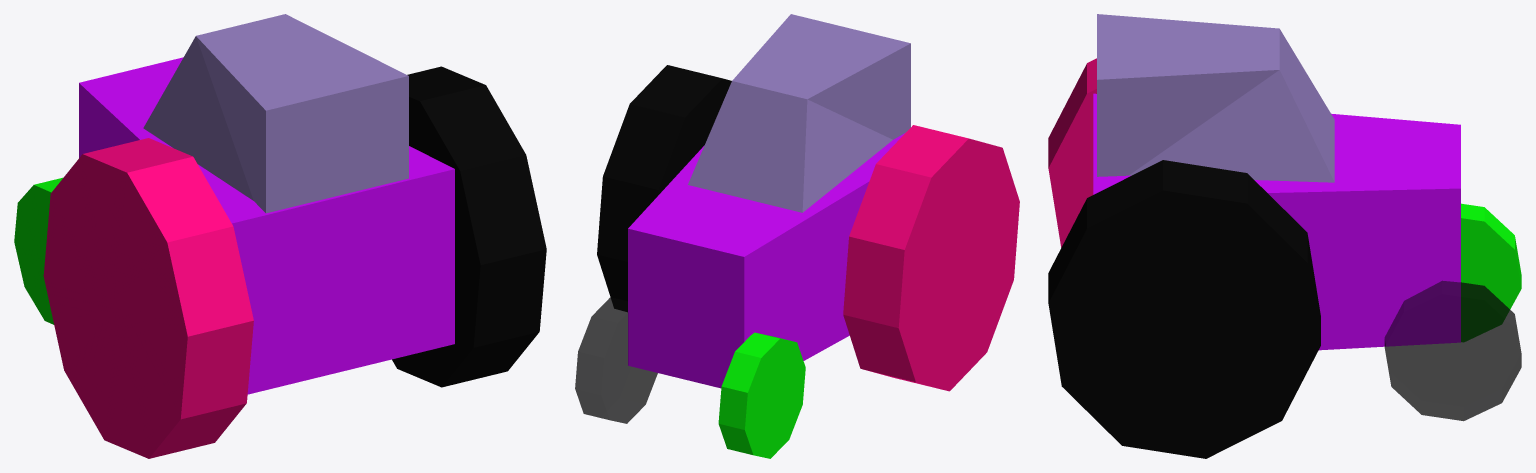
The model's file is tractor.obj.
3 renders of one model, left to right at view 1: azimuth 30°, elevation 25°; view 2: azimuth 150°, elevation 25°; view 3: azimuth 270°, elevation 25°, orthographic. The views are drawn at different scales.
Parts seen in each view (by area): view 1: Cylinder, Cube, Cube.001, Cylinder.001, Cylinder.003; view 2: Cube, Cylinder, Cube.001, Cylinder.001, Cylinder.003, Cylinder.002; view 3: Cylinder.001, Cube, Cube.001, Cylinder.002, Cylinder.003, Cylinder.
Part boxes in pixels (x1=…): Cylinder: x1=43, y1=138, x2=253, y2=458; Cube: x1=79, y1=57, x2=454, y2=394; Cube.001: x1=143, y1=14, x2=408, y2=213; Cylinder.001: x1=392, y1=66, x2=546, y2=387; Cylinder.003: x1=14, y1=177, x2=62, y2=324; Cube: x1=628, y1=133, x2=904, y2=388; Cylinder: x1=843, y1=125, x2=1019, y2=391; Cube.001: x1=688, y1=14, x2=910, y2=212; Cylinder.001: x1=597, y1=65, x2=731, y2=311; Cylinder.003: x1=718, y1=332, x2=805, y2=458; Cylinder.002: x1=575, y1=297, x2=657, y2=423; Cylinder.001: x1=1048, y1=160, x2=1320, y2=458; Cube: x1=1093, y1=93, x2=1460, y2=350; Cube.001: x1=1097, y1=14, x2=1334, y2=182; Cylinder.002: x1=1384, y1=280, x2=1521, y2=421; Cylinder.003: x1=1461, y1=203, x2=1521, y2=341; Cylinder: x1=1048, y1=58, x2=1096, y2=247.
Size of the model in its own units: 0.7989 by 0.7369 by 0.9653.
